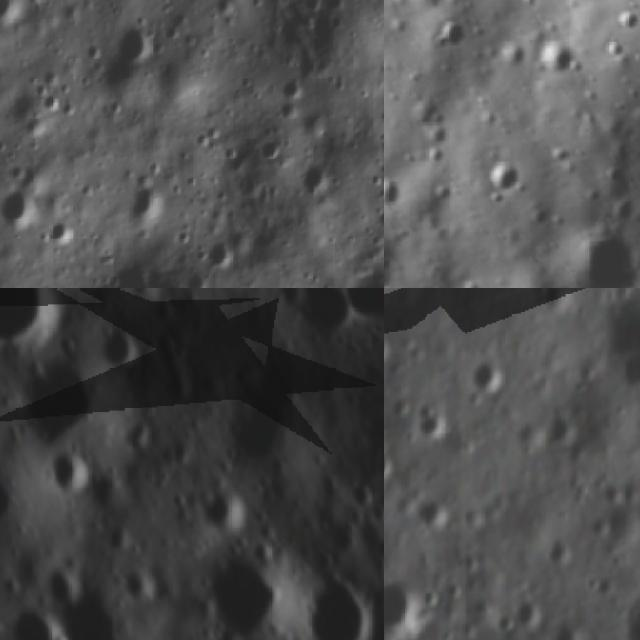crater: (211, 356, 328, 476), (0, 342, 117, 458), (188, 542, 299, 640), (289, 553, 384, 640), (0, 288, 71, 367), (39, 536, 111, 608), (569, 220, 640, 288), (190, 473, 257, 545), (39, 441, 106, 506), (593, 288, 640, 372), (293, 288, 362, 345), (0, 593, 77, 640), (91, 313, 146, 373), (384, 576, 429, 640), (124, 176, 171, 232), (114, 13, 162, 65), (0, 184, 39, 243), (547, 400, 589, 453), (297, 152, 338, 206), (464, 349, 509, 398), (418, 489, 464, 535), (202, 230, 247, 276), (490, 152, 532, 200), (415, 400, 456, 447), (513, 584, 555, 628), (536, 38, 577, 83), (39, 214, 82, 255), (252, 126, 287, 166), (384, 166, 410, 217), (371, 471, 384, 571), (384, 316, 407, 370), (0, 0, 33, 34), (276, 69, 305, 102), (270, 94, 302, 123), (384, 440, 400, 491), (178, 266, 215, 288)
